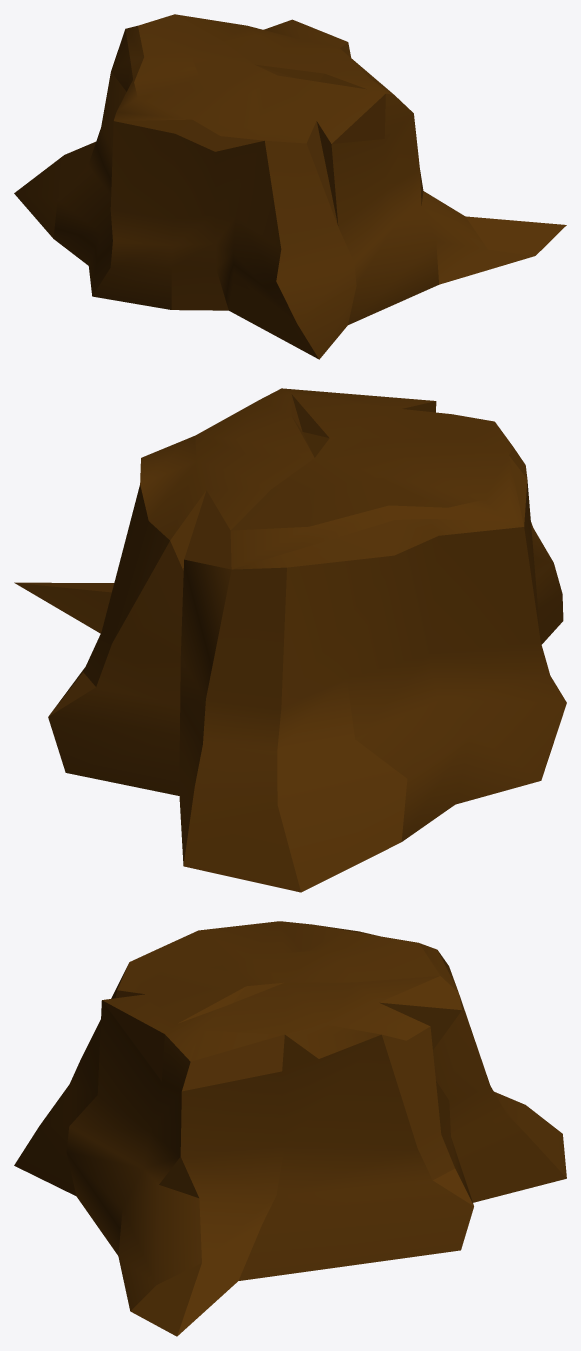
File: stump.fbx
The picture shows the model from 3 angles, top to bottom: view 1: azimuth 30°, elevation 25°; view 2: azimuth 150°, elevation 25°; view 3: azimuth 270°, elevation 25°; orthographic projection. The views are drawn at different scales.
Parts seen in each view (by area): view 1: pCylinder3; view 2: pCylinder3; view 3: pCylinder3.
Part boxes in pixels (x1,y1,x2,y2): pCylinder3: (14, 14, 566, 359); pCylinder3: (14, 388, 566, 892); pCylinder3: (14, 921, 566, 1336).
Bounding box in the file's own units: 65.72 × 29.64 × 66.34.
